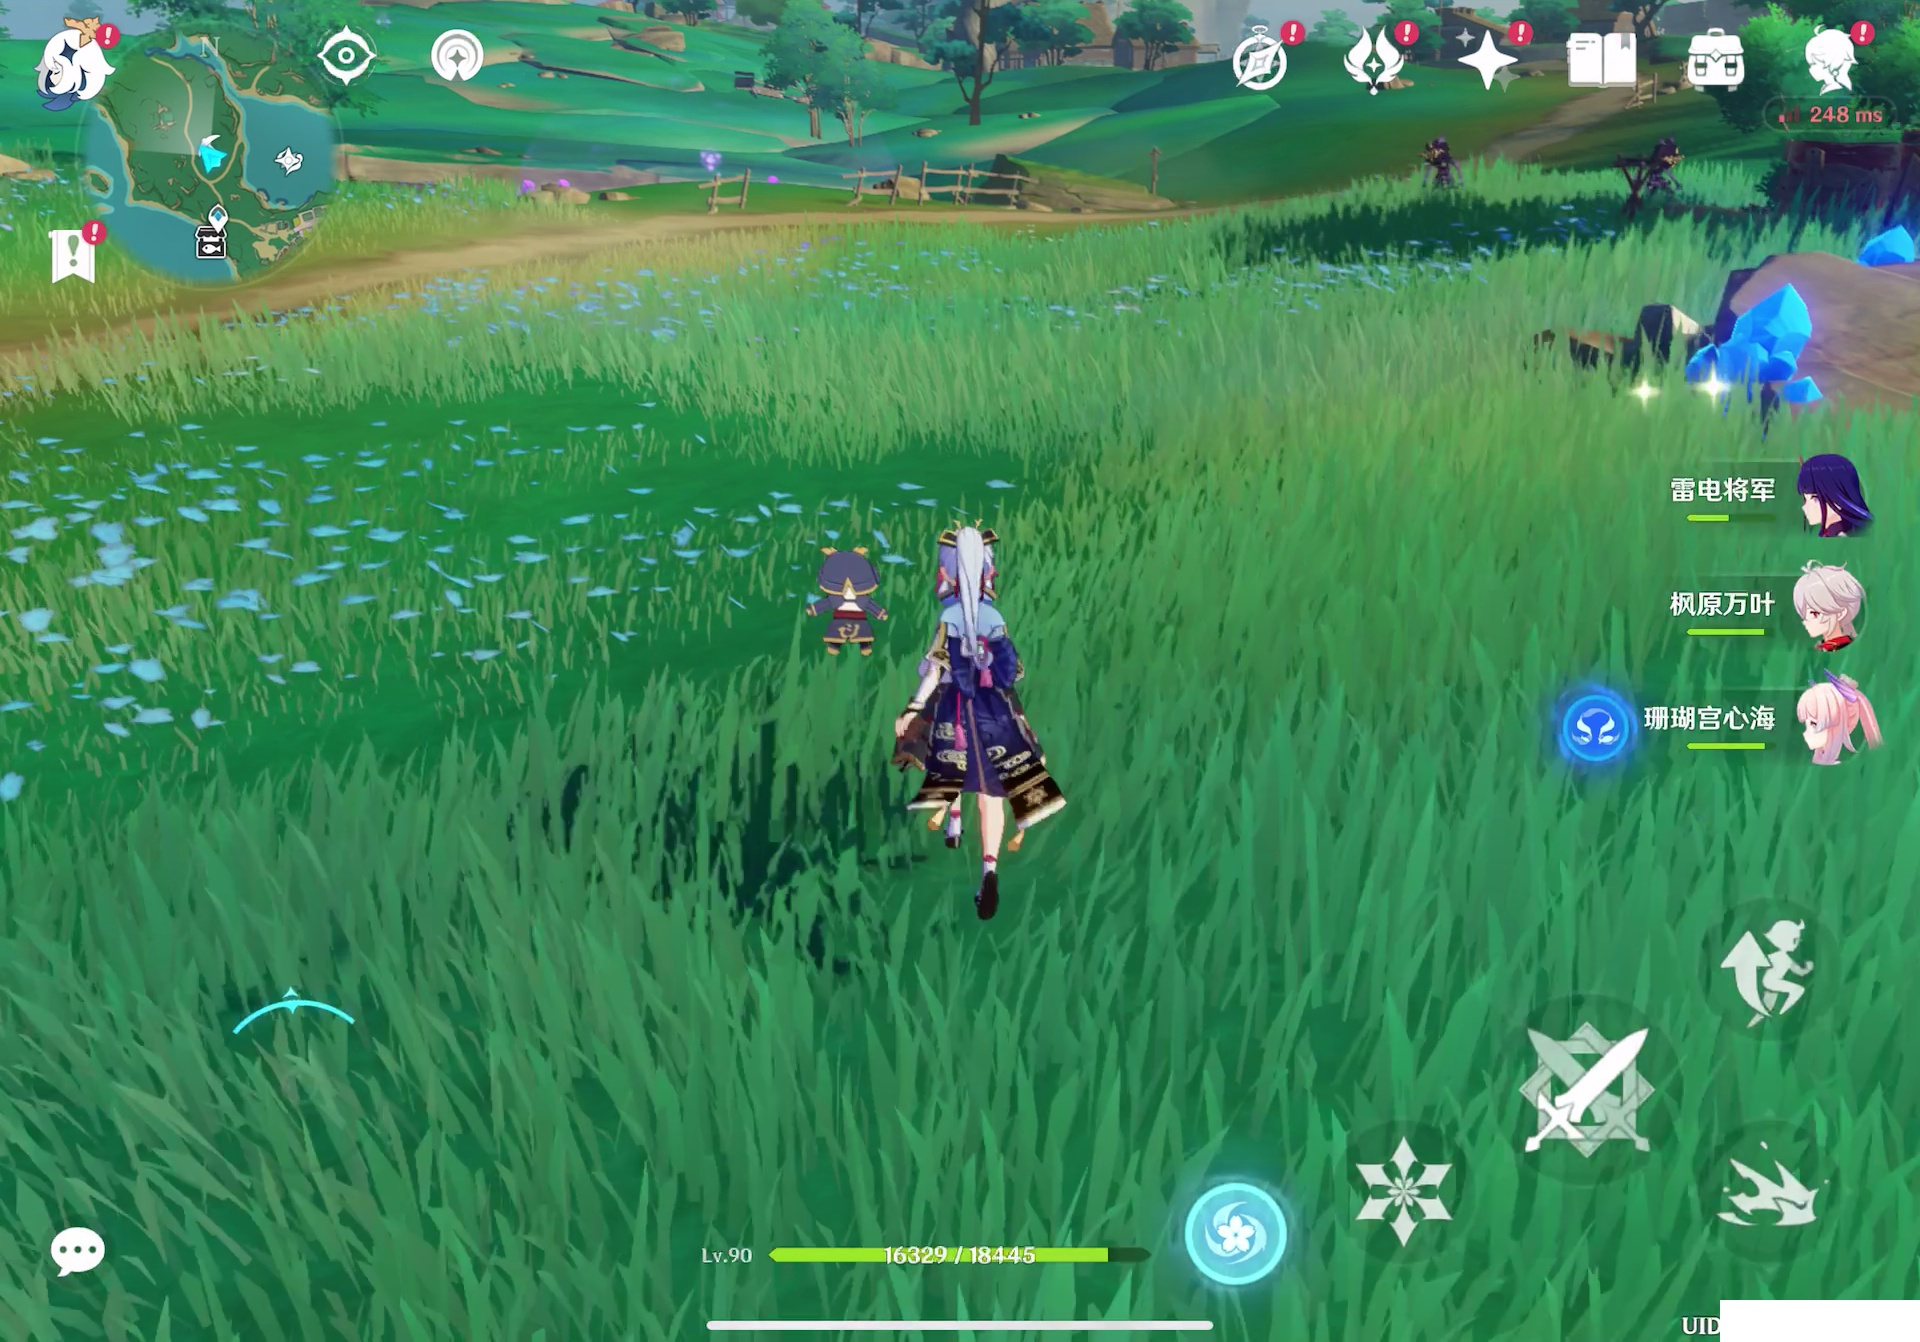丘丘人: (1412, 136, 1468, 206), (1646, 131, 1691, 214)
神里绫龟: (899, 513, 1053, 899)
蓝矿石: (1689, 271, 1824, 424), (1859, 220, 1920, 276)
